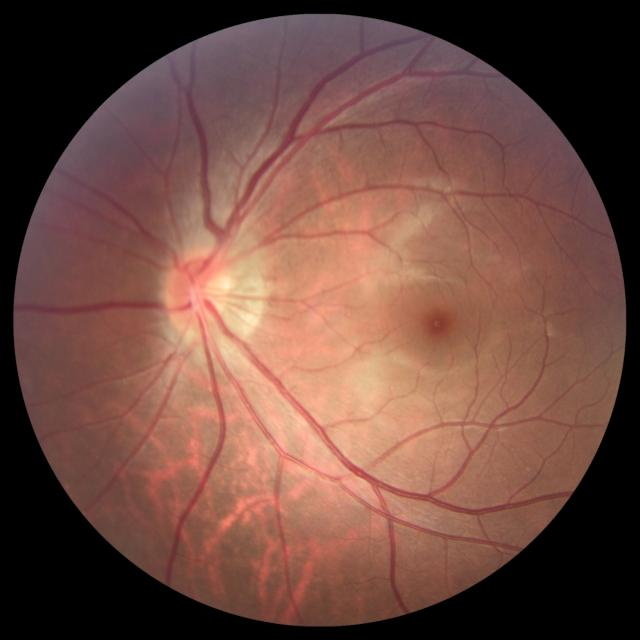OC: (179, 279, 213, 312)
OD: (164, 249, 232, 336)
